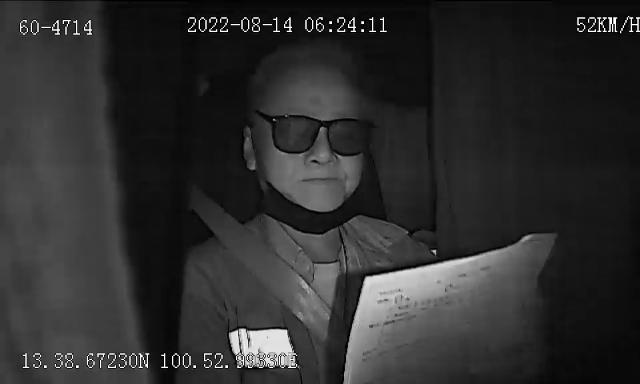Seatbelt: (191, 186, 337, 354)
